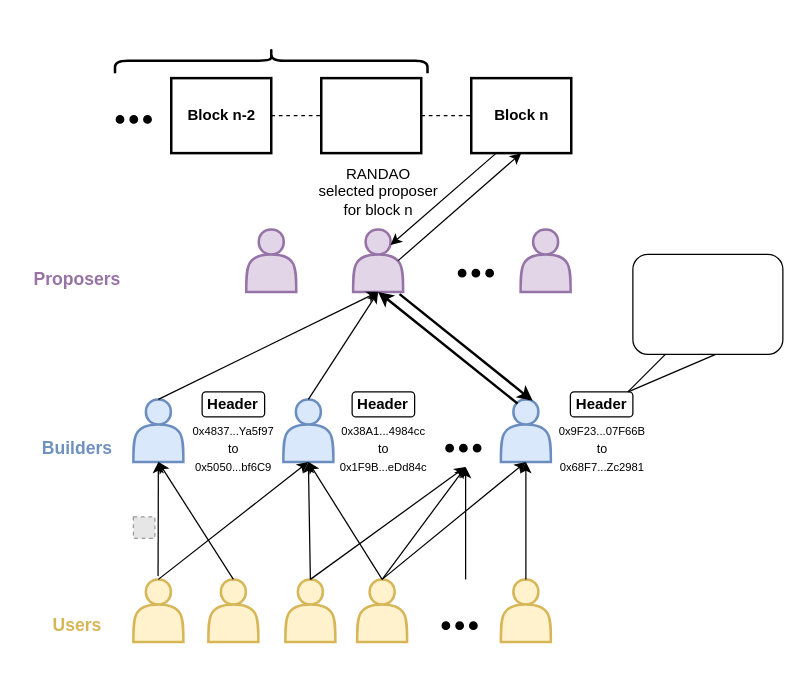
This 806x684 diagram has some shape labels left out. Grey dashed boxes stand in for pictures. Here are the shapes that lost their labels. From the top down, the centre of each, then its label:
At [270,60]: "Confirmed".
At [370,115]: "Block n-1".
At [707,303]: "Header Parent block's hash Timestamp Builder signature Bid value".
